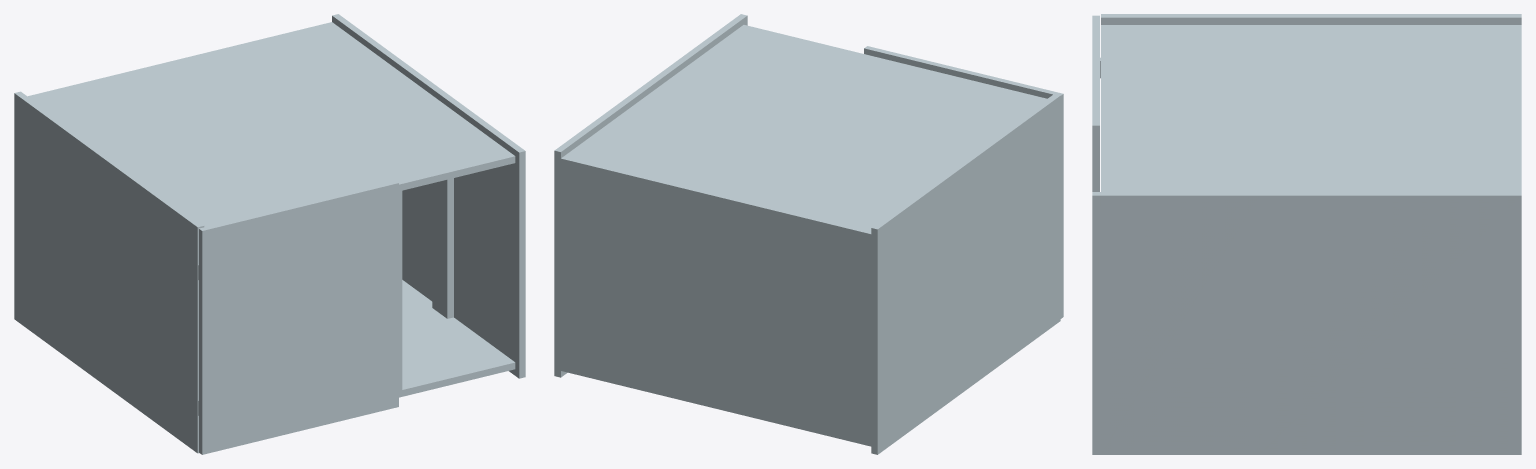
File: assembly.glb
The picture shows the model from 3 angles, left to right: view 1: azimuth 30°, elevation 25°; view 2: azimuth 150°, elevation 25°; view 3: azimuth 270°, elevation 25°; orthographic projection. The views are drawn at different scales.
Parts seen in each view (by area): view 1: tapa, puerta_izquierda, costado_izquierdo, costado_derecho_delantero, base, costado_derecho_trasero, refuerzo_junta_derecha, montante_frontal_derecho, division; view 2: trasera, tapa, costado_izquierdo, costado_derecho_trasero, puerta_izquierda, base, costado_derecho_delantero; view 3: tapa, costado_derecho_trasero, costado_derecho_delantero, costado_izquierdo, montante_frontal_derecho, puerta_izquierda.
Boxes of the visible parts, <box> form: tapa: <box>28,22,515,227</box>; puerta_izquierda: <box>199,180,398,454</box>; costado_izquierdo: <box>14,91,204,453</box>; costado_derecho_delantero: <box>446,97,521,375</box>; base: <box>399,280,515,397</box>; costado_derecho_trasero: <box>332,14,452,301</box>; refuerzo_junta_derecha: <box>432,178,453,318</box>; montante_frontal_derecho: <box>515,148,525,378</box>; division: <box>399,191,402,390</box>; trasera: <box>561,165,871,439</box>; tapa: <box>561,25,1047,240</box>; costado_izquierdo: <box>871,94,1060,454</box>; costado_derecho_trasero: <box>554,67,674,377</box>; puerta_izquierda: <box>864,46,1063,318</box>; base: <box>561,364,871,446</box>; costado_derecho_delantero: <box>669,17,743,74</box>; tapa: <box>1101,25,1521,191</box>; costado_derecho_trasero: <box>1259,192,1521,454</box>; costado_derecho_delantero: <box>1101,192,1259,454</box>; costado_izquierdo: <box>1101,14,1521,24</box>; montante_frontal_derecho: <box>1092,192,1100,454</box>; puerta_izquierda: <box>1092,15,1099,191</box>.
Bounding box in the file's own units: 0.9 × 0.6 × 0.9.
